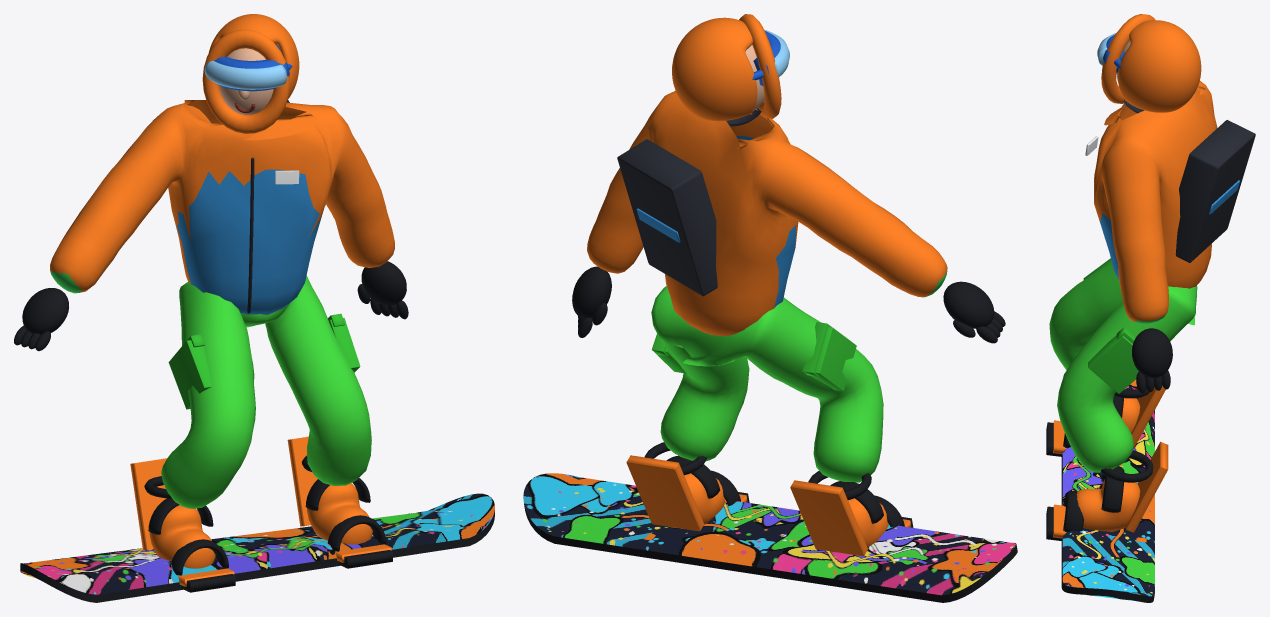
File: rider-snowboard.glb
3 views of the same model, side by side, from view 1: azimuth 30°, elevation 25°; view 2: azimuth 150°, elevation 25°; view 3: azimuth 270°, elevation 25° (orthographic). The views are drawn at different scales.
Parts seen in each view (by area): view 1: upper-jacket, lower-pants, equipment-board, upper-hood-rim, feet-boot-0, feet-boot-1, upper-hood, head-lens, hands-glove-0, lower-cargo-0, equipment-highback-0, hands-glove-1 (+11 smaller); view 2: upper-jacket, equipment-board, lower-pants, extras-backpack, upper-hood, equipment-highback-0, equipment-highback-1, upper-hood-rim, hands-glove-0, lower-cargo-0, hands-glove-1, feet-boot-1 (+3 smaller); view 3: upper-jacket, lower-pants, equipment-board, extras-backpack, upper-hood, feet-boot-1, lower-cargo-1, hands-glove-1, upper-hood-rim, equipment-highback-1, equipment-highback-0, equipment-strap-1-0 (+5 smaller).
Part boxes in pixels (x1,y1,x2,y2): upper-jacket: (50, 100, 394, 314); lower-pants: (161, 276, 371, 508); equipment-board: (20, 493, 494, 602); upper-hood-rim: (202, 29, 289, 133); feet-boot-0: (149, 505, 215, 568); feet-boot-1: (307, 483, 372, 544); upper-hood: (208, 14, 299, 99); head-lens: (204, 61, 287, 89); hands-glove-0: (22, 288, 68, 334); lower-cargo-0: (168, 340, 211, 409); equipment-highback-0: (130, 458, 166, 550); hands-glove-1: (361, 261, 406, 305); upper-jacket: (587, 91, 947, 335); equipment-board: (523, 473, 1017, 602); lower-pants: (651, 286, 883, 482); extras-backpack: (617, 139, 717, 296); upper-hood: (672, 17, 757, 121); equipment-highback-0: (790, 480, 867, 556); equipment-highback-1: (626, 455, 704, 531); upper-hood-rim: (739, 14, 781, 118); hands-glove-0: (943, 281, 994, 328); lower-cargo-0: (811, 327, 856, 391); hands-glove-1: (572, 266, 611, 318); feet-boot-1: (681, 473, 724, 528); upper-jacket: (1094, 81, 1217, 323); lower-pants: (1049, 262, 1197, 472); equipment-board: (1061, 370, 1154, 602); extras-backpack: (1175, 120, 1255, 262); upper-hood: (1118, 20, 1201, 112); feet-boot-1: (1076, 479, 1140, 531); lower-cargo-1: (1088, 335, 1138, 393); hands-glove-1: (1132, 328, 1172, 377); upper-hood-rim: (1101, 14, 1155, 103); equipment-highback-1: (1126, 441, 1168, 532); equipment-highback-0: (1131, 385, 1165, 448); equipment-strap-1-0: (1101, 466, 1124, 512).
Size of the model in its own units: 1.58 by 1.77 by 0.672.
Materials: 21 (1 with a texture image).
